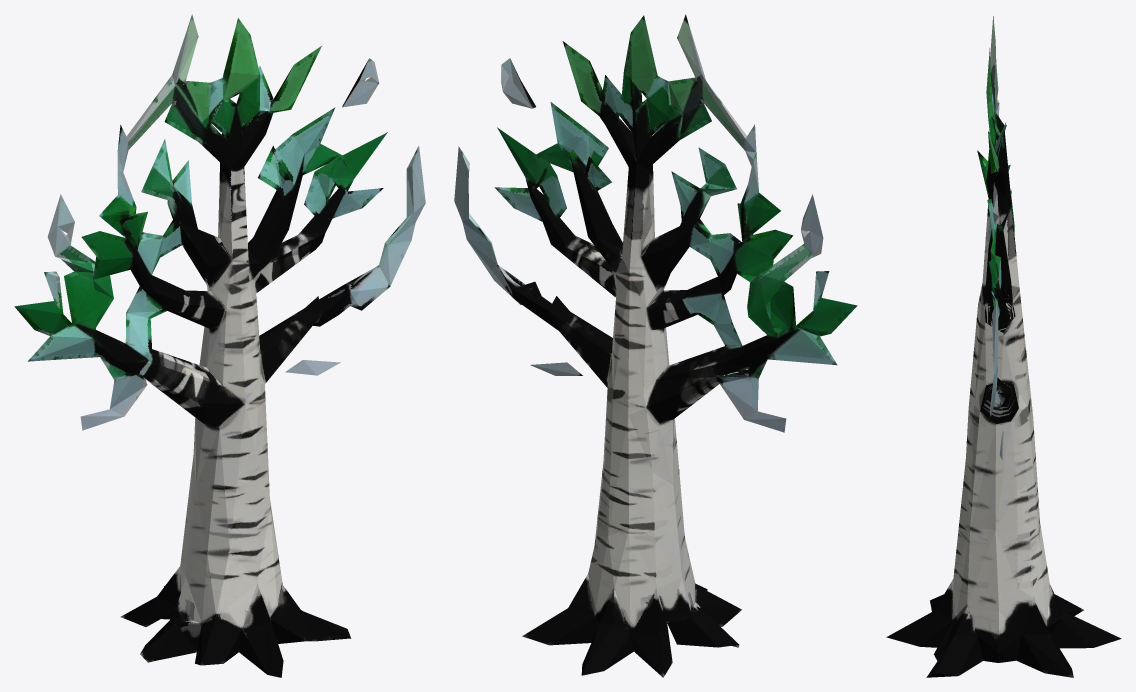
The model's file is birch_tree.glb.
The picture shows the model from 3 angles, left to right: view 1: azimuth 30°, elevation 25°; view 2: azimuth 150°, elevation 25°; view 3: azimuth 270°, elevation 25°; orthographic projection. The views are drawn at different scales.
Size of the model in its own units: 1.33 by 1.96 by 0.6883.
1 material, 1 textured.
